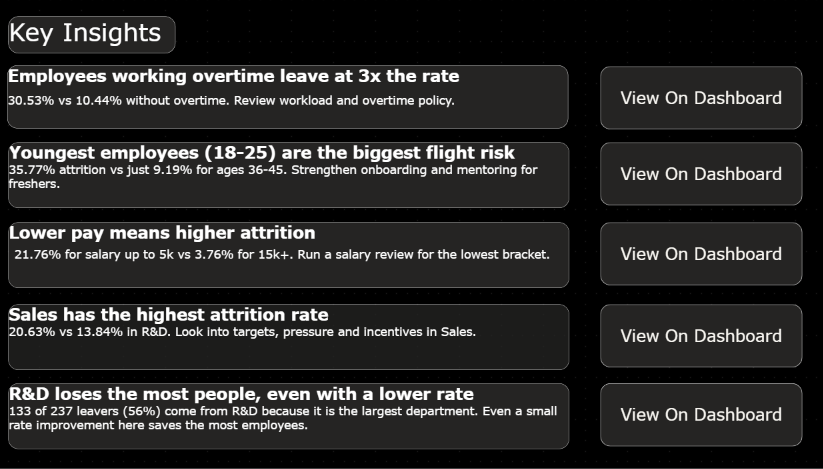

Layout of this report page (visuals, bound fields, positions):
{"tool":"powerbi","page":{"name":"Key Insights","canvas":[1920,1080],"ordinal":1},"visuals":[{"type":"textbox","box":[25.1,38.9,381.7,84.6],"z":0},{"type":"textbox","box":[22.9,150.9,1282.3,144],"z":1000},{"type":"textbox","box":[25.1,326.9,1282,150],"z":2000},{"type":"textbox","box":[25.1,509.7,1282,150],"z":2001},{"type":"textbox","box":[25.1,697.1,1282,150],"z":2002},{"type":"textbox","box":[25,878.5,1282,150],"z":2003},{"type":"actionButton","box":[1378.3,153.1,461.7,144],"z":2004},{"type":"actionButton","box":[1378.3,326.9,461.7,144],"z":2005},{"type":"actionButton","box":[1378.3,509.7,461.7,144],"z":2006},{"type":"actionButton","box":[1378.3,697.1,461.7,144],"z":2007},{"type":"actionButton","box":[1378.3,877.7,461.7,144],"z":2008}]}

Visuals, with their boxes in screenshot pixels (x1, y1, x2, y2), scaled from the page's 1920x1080 canvas onto the 823x469 screenshot:
textbox: locate(11, 17, 174, 54)
textbox: locate(10, 66, 559, 128)
textbox: locate(11, 142, 560, 207)
textbox: locate(11, 221, 560, 286)
textbox: locate(11, 303, 560, 368)
textbox: locate(11, 381, 560, 447)
actionButton: locate(591, 66, 789, 129)
actionButton: locate(591, 142, 789, 204)
actionButton: locate(591, 221, 789, 284)
actionButton: locate(591, 303, 789, 365)
actionButton: locate(591, 381, 789, 444)
